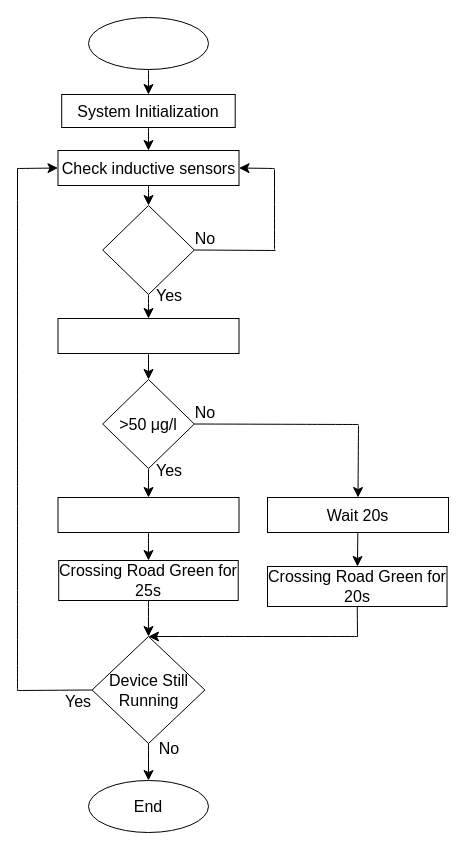
Some shapes in this 466 by 850 pixel diagram are drawn without their labels. Each missing label, with the centre of its shape:
Measure fine dust: point (148, 336)
Start: point (148, 43)
Triggered: point (148, 249)
Wait 40s: point (148, 514)
